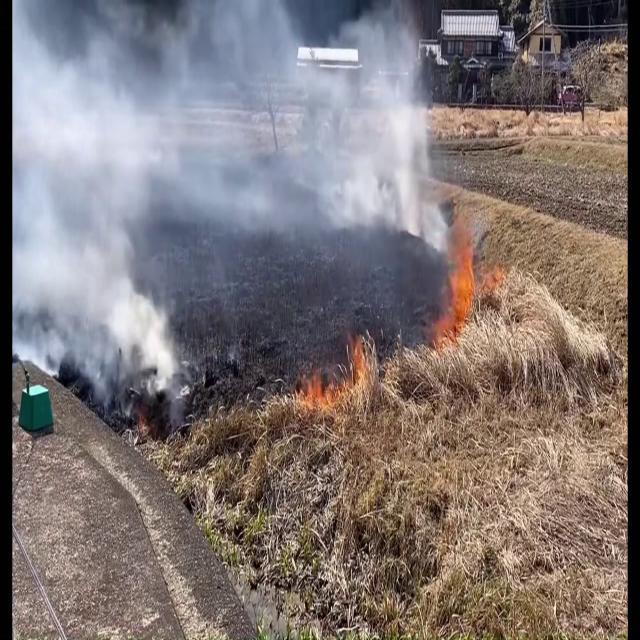Fire: (432, 228, 484, 348)
Smoke: (21, 0, 449, 258), (12, 2, 184, 404)
